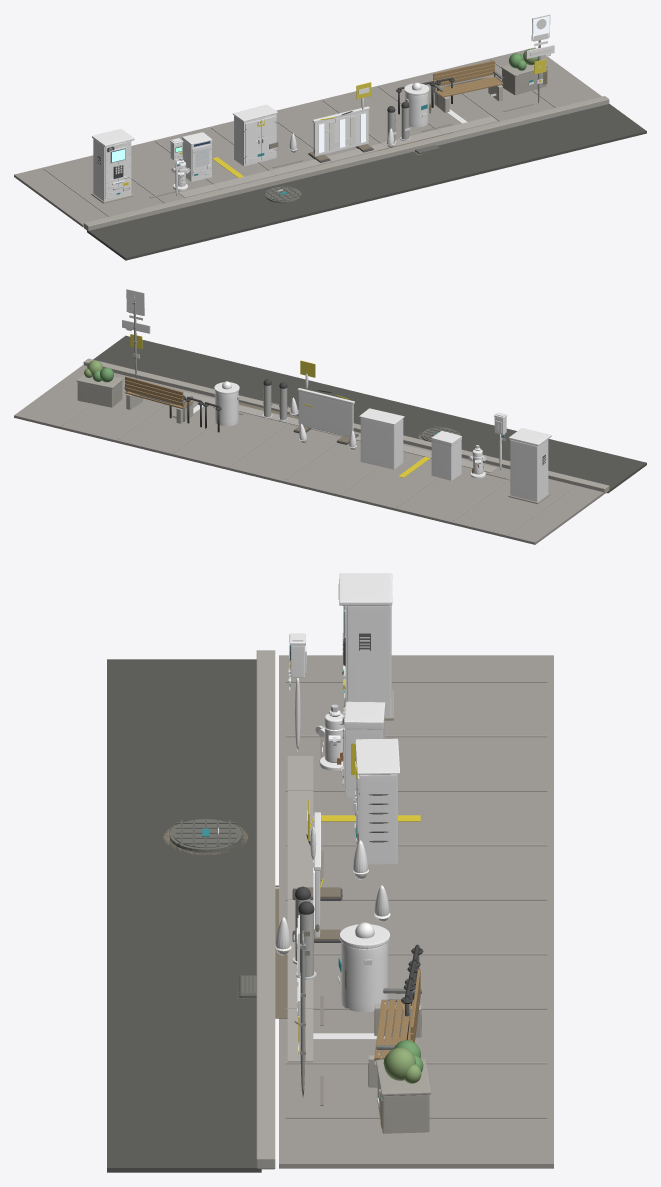
Rendered from hm_street_props_kit_v2.glb.
The picture shows the model from 3 angles, top to bottom: view 1: azimuth 30°, elevation 25°; view 2: azimuth 150°, elevation 25°; view 3: azimuth 270°, elevation 25°; orthographic projection. The views are drawn at different scales.
Visible parts, largest first — view 1: Strip_Road, Strip_Walk, Strip_Curb, Strip_Tactile, Bar_Panel, ATM_Face, ATM_Body, Cab_Body, Planter_Outer, Bin_Body, Cab_Door_L, Cab_Door_R (+4 smaller); view 2: Strip_Walk, Strip_Road, Strip_Curb, ATM_Body, Cab_Body, Bar_Panel, News_Body, Strip_Tactile, Planter_Outer, Bin_Body, ATM_Hood, Cab_Lip (+1 smaller); view 3: Strip_Walk, Strip_Road, Strip_Curb, Strip_Tactile, ATM_Body, Cab_Body, Bin_Body, Planter_Outer, ATM_Hood, Cab_Lip, News_Header, Planter_Rim (+3 smaller).
Boxes of the visible parts, x1,y1,x2,y2 form: Strip_Road: [87, 104, 646, 260]; Strip_Walk: [14, 47, 601, 226]; Strip_Curb: [83, 96, 609, 230]; Strip_Tactile: [178, 116, 497, 197]; Bar_Panel: [313, 110, 368, 156]; ATM_Face: [105, 142, 130, 198]; ATM_Body: [93, 139, 131, 201]; Cab_Body: [234, 113, 276, 166]; Planter_Outer: [502, 68, 546, 95]; Bin_Body: [405, 92, 428, 127]; Cab_Door_L: [245, 120, 259, 164]; Cab_Door_R: [261, 115, 275, 160]; Strip_Walk: [14, 365, 603, 544]; Strip_Road: [93, 335, 646, 493]; Strip_Curb: [83, 358, 609, 493]; ATM_Body: [510, 439, 548, 501]; Cab_Body: [360, 417, 403, 469]; Bar_Panel: [298, 391, 353, 437]; News_Body: [431, 440, 461, 480]; Strip_Tactile: [183, 391, 497, 472]; Planter_Outer: [77, 381, 122, 407]; Bin_Body: [215, 391, 238, 426]; ATM_Hood: [509, 428, 551, 446]; Cab_Lip: [359, 408, 404, 424]; Strip_Walk: [279, 655, 553, 1168]; Strip_Road: [107, 659, 261, 1172]; Strip_Curb: [256, 650, 275, 1169]; Strip_Tactile: [287, 756, 313, 1062]; ATM_Body: [347, 605, 391, 716]; Cab_Body: [359, 774, 397, 864]; Bin_Body: [341, 942, 388, 1012]; Planter_Outer: [377, 1073, 429, 1133]; ATM_Hood: [339, 573, 392, 605]; Cab_Lip: [355, 738, 400, 774]; News_Header: [344, 701, 385, 729]; Planter_Rim: [376, 1058, 430, 1095].
Size of the model in its own units: 14 by 2.47 by 5.2.
